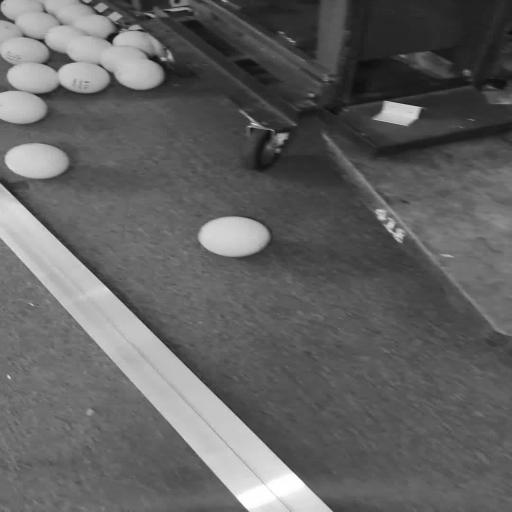fuel: (198, 216, 271, 257), (5, 144, 69, 179), (7, 63, 59, 94), (58, 62, 110, 93), (114, 59, 165, 90), (0, 91, 47, 124), (0, 37, 50, 65), (101, 45, 147, 73), (67, 36, 111, 65), (16, 12, 59, 39), (45, 26, 85, 53), (112, 31, 155, 56), (74, 15, 116, 39), (55, 3, 94, 25), (0, 20, 22, 45)
